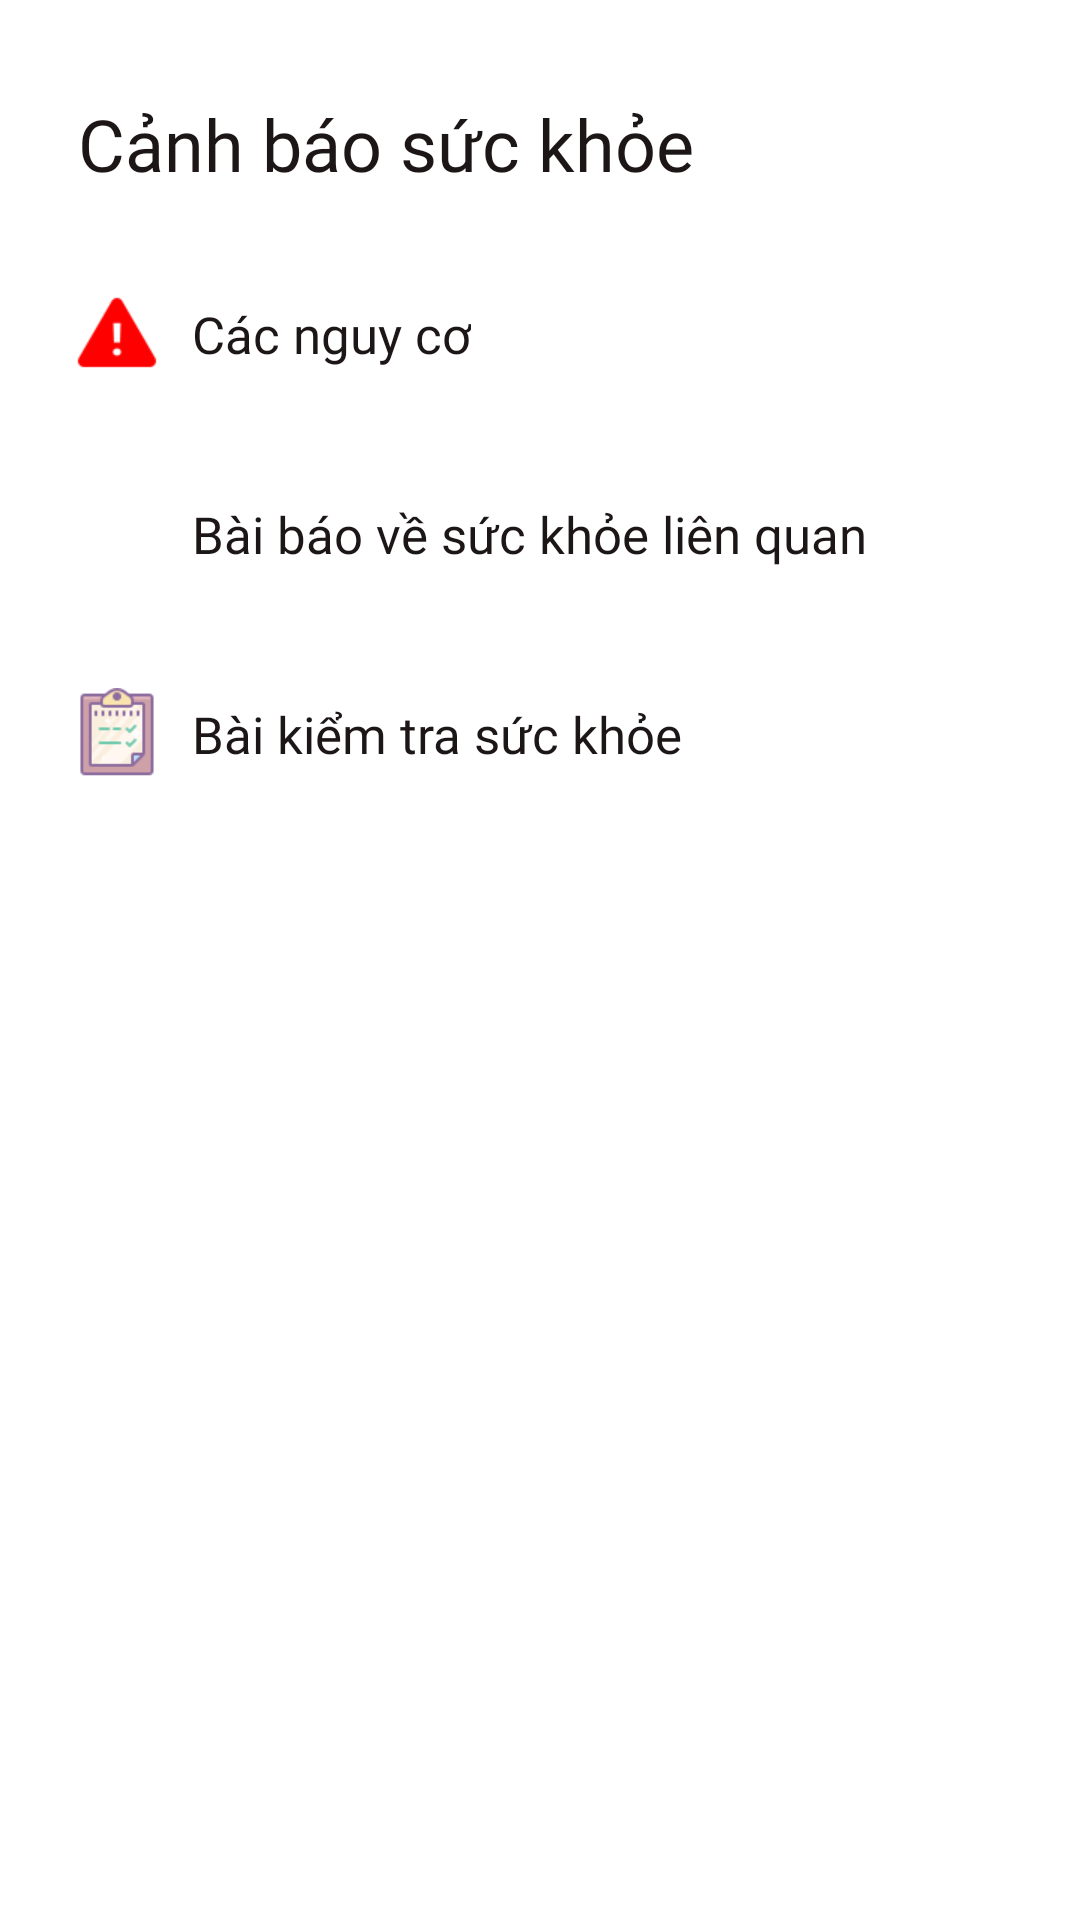

Named icons in this screenshot (1080×1920) and their bounding boxes, (x1, y1, x2, y2):
error: (77, 297, 157, 368)
exam: (80, 688, 154, 776)
